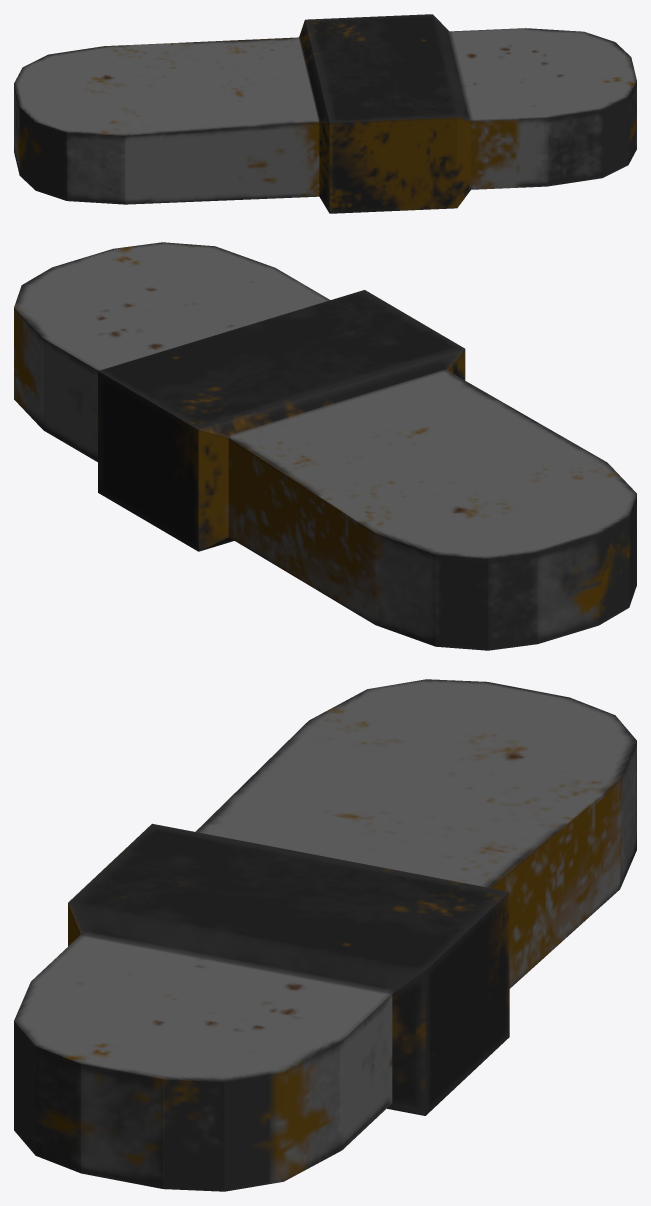
File: SM_Mech_ShinR.obj
The picture shows the model from 3 angles, top to bottom: view 1: azimuth 30°, elevation 25°; view 2: azimuth 150°, elevation 25°; view 3: azimuth 270°, elevation 25°; orthographic projection. The views are drawn at different scales.
Visible parts, largest first — view 1: SM_Mech_ShinR; view 2: SM_Mech_ShinR; view 3: SM_Mech_ShinR.
Boxes of the visible parts, left/top/right/bottom form: SM_Mech_ShinR: left=14, top=14, right=636, bottom=213; SM_Mech_ShinR: left=14, top=242, right=636, bottom=650; SM_Mech_ShinR: left=14, top=679, right=636, bottom=1191.
Size of the model in its own units: 147 by 24.67 by 95.78.
Materials: 1 (1 with a texture image).
